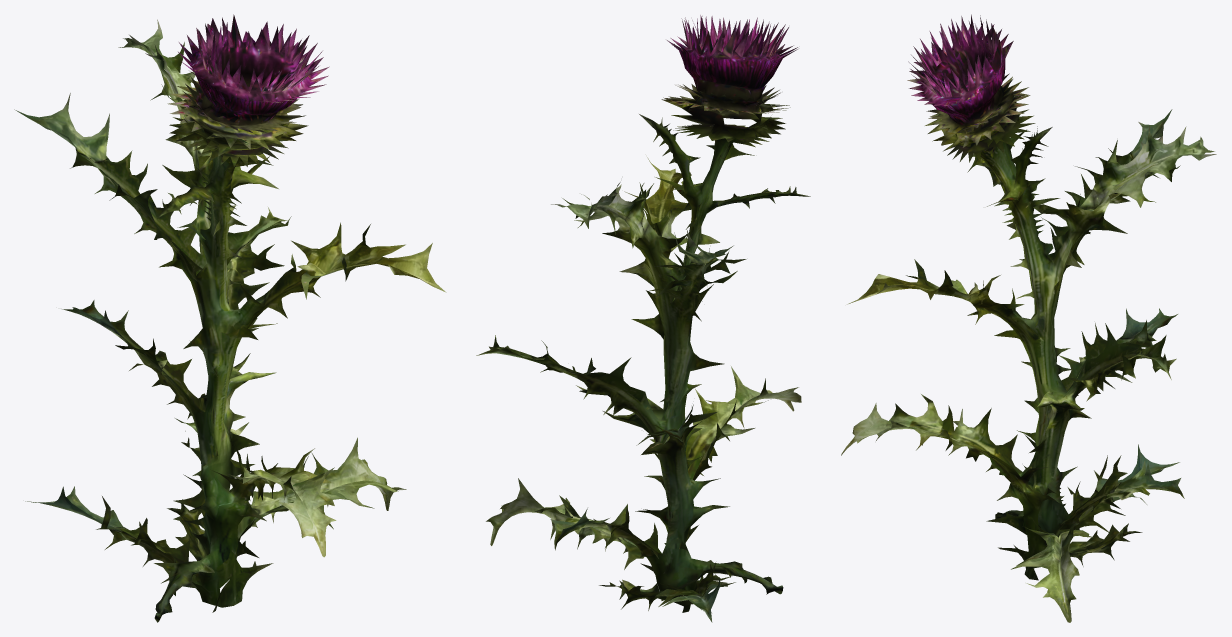
File: thistle.glb
3 views of the same model, side by side, from view 1: azimuth 30°, elevation 25°; view 2: azimuth 150°, elevation 25°; view 3: azimuth 270°, elevation 25° (orthographic). The views are drawn at different scales.
Parts seen in each view (by area): view 1: tripo_node_88ed7f8c-4012-489e-9787-f9419e8822f6; view 2: tripo_node_88ed7f8c-4012-489e-9787-f9419e8822f6; view 3: tripo_node_88ed7f8c-4012-489e-9787-f9419e8822f6.
Part boxes in pixels (x1=…): tripo_node_88ed7f8c-4012-489e-9787-f9419e8822f6: x1=14, y1=14, x2=446, y2=622; tripo_node_88ed7f8c-4012-489e-9787-f9419e8822f6: x1=476, y1=15, x2=810, y2=622; tripo_node_88ed7f8c-4012-489e-9787-f9419e8822f6: x1=841, y1=14, x2=1216, y2=622.
Size of the model in its own units: 0.5454 by 0.9995 by 0.6382.
1 material, 1 textured.
